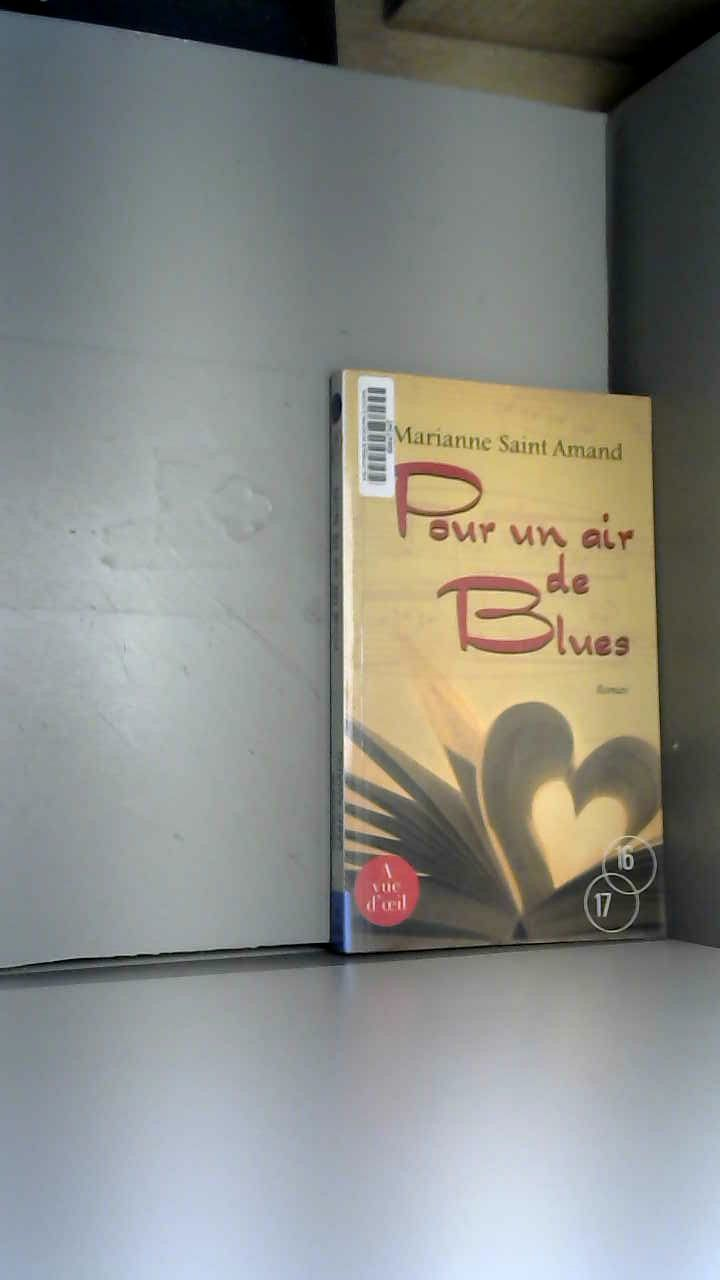book: (286, 331, 705, 1006)
